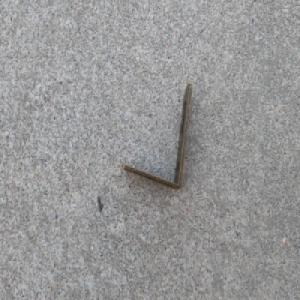MetalPart: (123, 82, 193, 191)
